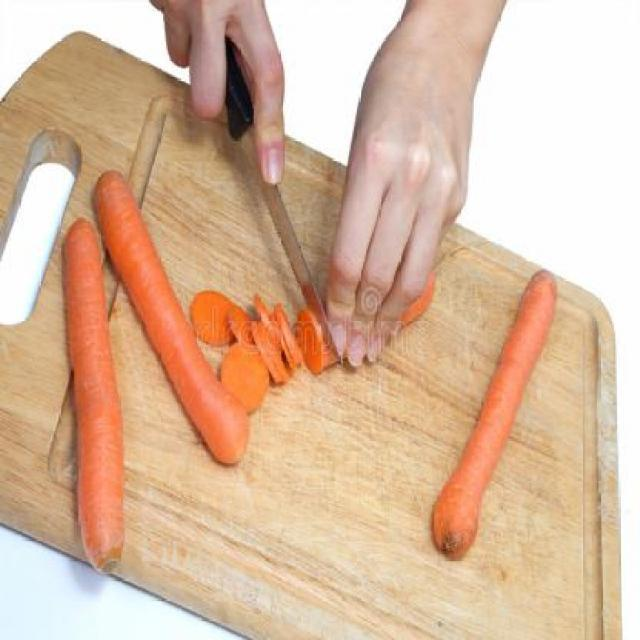carrot: (94, 165, 253, 473), (428, 268, 562, 564), (60, 216, 128, 582)
